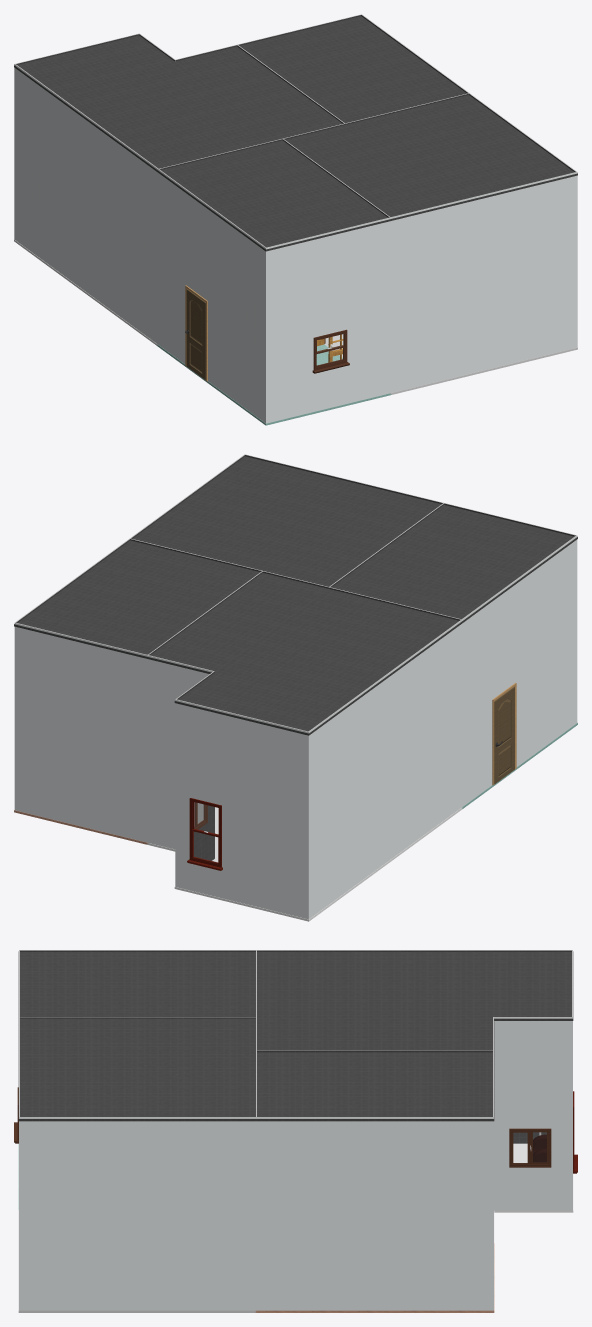
File: ProcTHOR-Train-95.glb
3 renders of one model, top to bottom at view 1: azimuth 30°, elevation 25°; view 2: azimuth 150°, elevation 25°; view 3: azimuth 270°, elevation 25°, orthographic. The views are drawn at different scales.
Parts seen in each view (by area): view 1: WallInside#wall|exterior|0.00|11.99|5.14|11.99, WallInside#wall|exterior|8.56|0.00|8.56|6.85, Ceiling#room|4|c, WallInside#wall|exterior|5.14|11.99|8.56|11.99, Ceiling#room|6|c, WallInside#wall|exterior|8.56|6.85|8.56|11.99, Ceiling#room|7|c, Ceiling#room|5|c, Doorway_6, Floor#room|7|f, Window_Hung_36x32, Floor#room|6|f; view 2: WallInside#wall|exterior|8.56|0.00|8.56|6.85, Ceiling#room|4|c, WallInside#wall|exterior|0.00|1.71|3.42|1.71, WallInside#wall|exterior|5.14|0.00|8.56|0.00, Ceiling#room|6|c, WallInside#wall|exterior|8.56|6.85|8.56|11.99, Ceiling#room|5|c, Ceiling#room|7|c, WallInside#wall|exterior|3.42|1.71|5.14|1.71, Doorway_6, Floor#room|4|f, Window_Hung_32x60 (+1 smaller); view 3: WallInside#wall|exterior|0.00|1.71|0.00|6.85, WallInside#wall|exterior|0.00|6.85|0.00|11.99, Ceiling#room|4|c, Ceiling#room|6|c, Ceiling#room|5|c, Ceiling#room|7|c, WallInside#wall|exterior|5.14|0.00|5.14|1.71, Window_Slider_36x36, WallInside#wall|4|8.56|0.00|8.56|6.85, Floor#room|6|f, Floor#room|5|f, WallInside#wall|5|3.42|1.71|3.42|6.85 (+3 smaller).
Boxes of the visible parts, bbox=[...] form: WallInside#wall|exterior|0.00|11.99|5.14|11.99: bbox=[390, 172, 577, 393]; WallInside#wall|exterior|8.56|0.00|8.56|6.85: bbox=[14, 64, 158, 344]; Ceiling#room|4|c: bbox=[14, 35, 344, 171]; WallInside#wall|exterior|5.14|11.99|8.56|11.99: bbox=[266, 217, 390, 423]; Ceiling#room|6|c: bbox=[283, 95, 577, 220]; WallInside#wall|exterior|8.56|6.85|8.56|11.99: bbox=[158, 169, 265, 423]; Ceiling#room|7|c: bbox=[157, 140, 391, 251]; Ceiling#room|5|c: bbox=[240, 16, 468, 125]; Doorway_6: bbox=[185, 285, 207, 381]; Floor#room|7|f: bbox=[157, 344, 391, 425]; Window_Hung_36x32: bbox=[312, 329, 349, 373]; Floor#room|6|f: bbox=[324, 334, 577, 394]; WallInside#wall|exterior|8.56|0.00|8.56|6.85: bbox=[308, 619, 462, 918]; Ceiling#room|4|c: bbox=[146, 573, 462, 735]; WallInside#wall|exterior|0.00|1.71|3.42|1.71: bbox=[14, 623, 147, 842]; WallInside#wall|exterior|5.14|0.00|8.56|0.00: bbox=[175, 699, 308, 919]; Ceiling#room|6|c: bbox=[133, 456, 442, 586]; WallInside#wall|exterior|8.56|6.85|8.56|11.99: bbox=[462, 535, 577, 806]; Ceiling#room|5|c: bbox=[14, 540, 262, 658]; Ceiling#room|7|c: bbox=[331, 505, 577, 622]; WallInside#wall|exterior|3.42|1.71|5.14|1.71: bbox=[147, 655, 213, 849]; Doorway_6: bbox=[492, 682, 516, 785]; Floor#room|4|f: bbox=[146, 807, 462, 921]; Window_Hung_32x60: bbox=[187, 798, 222, 870]; WallInside#wall|exterior|0.00|1.71|0.00|6.85: bbox=[256, 1117, 493, 1310]; WallInside#wall|exterior|0.00|6.85|0.00|11.99: bbox=[19, 1117, 256, 1310]; Ceiling#room|4|c: bbox=[255, 951, 573, 1051]; Ceiling#room|6|c: bbox=[18, 1018, 257, 1121]; Ceiling#room|5|c: bbox=[255, 1052, 494, 1121]; Ceiling#room|7|c: bbox=[18, 951, 255, 1018]; WallInside#wall|exterior|5.14|0.00|5.14|1.71: bbox=[493, 1017, 572, 1210]; Window_Slider_36x36: bbox=[509, 1128, 551, 1167]; WallInside#wall|4|8.56|0.00|8.56|6.85: bbox=[256, 950, 572, 1143]; Floor#room|6|f: bbox=[18, 1210, 256, 1312]; Floor#room|5|f: bbox=[255, 1243, 494, 1312]; WallInside#wall|5|3.42|1.71|3.42|6.85: bbox=[257, 1050, 492, 1052].
Size of what is drawn, in the model's own units: 8.7 by 4.68 by 12.23.
Materials: 267 (118 with a texture image).
